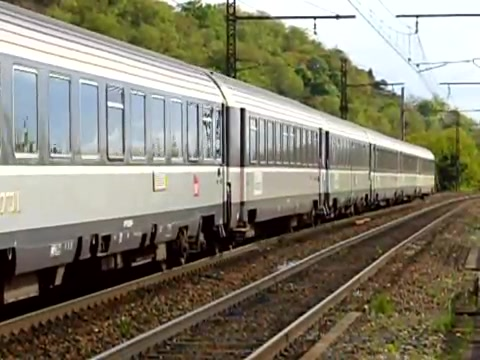train: (1, 1, 438, 318)
